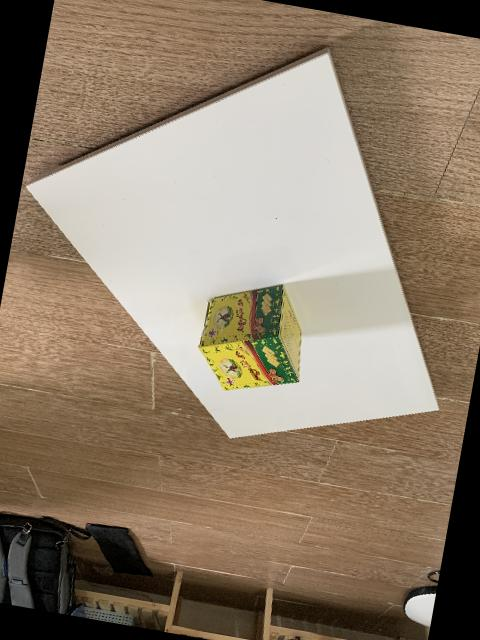luong_kho: (197, 282, 300, 389)
